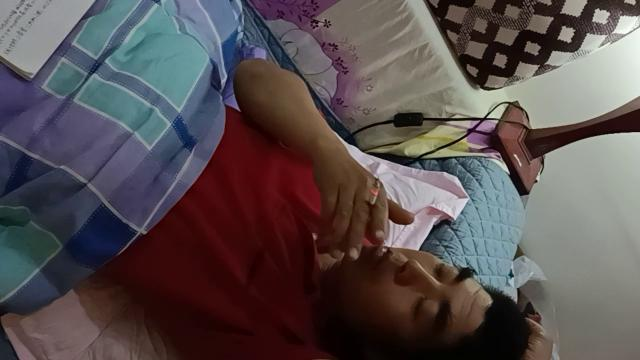Smoking: (366, 178, 382, 222)
